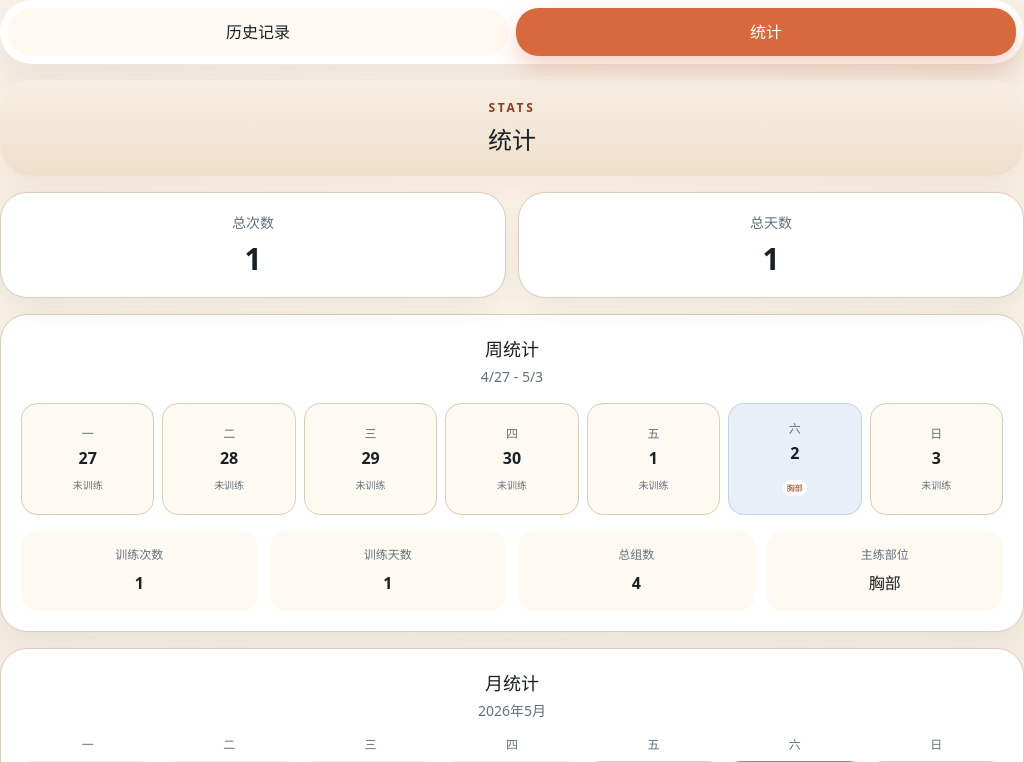
Scenario: StatsPage › shows stats by default and can switch to history records
Check: the heading "统计" is shown, box [488, 123, 536, 156]
Check: the button "统计" is shown, box [516, 8, 1016, 56]
Click the button "历史记录".
click(258, 32)  # box [8, 8, 508, 56]
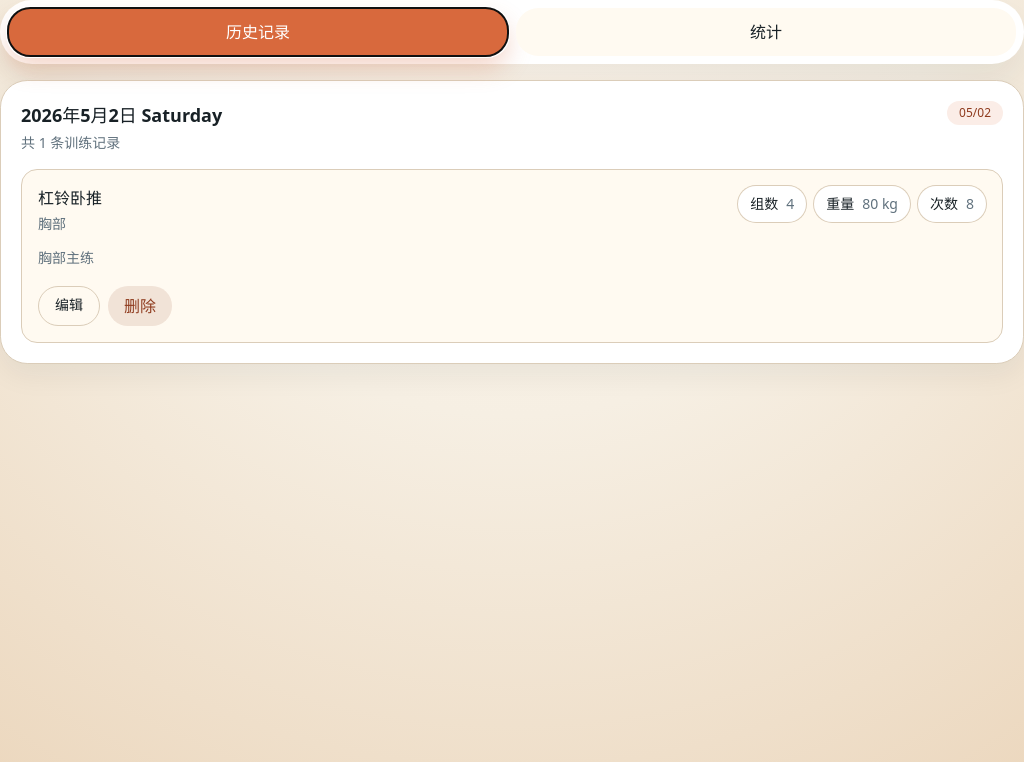
Check: the text "共 1 条训练记录" is shown, box [21, 133, 120, 152]
Check: the heading "杠铃卧推" is shown, box [38, 186, 102, 210]
Check: the text "胸部主练" is shown, box [38, 248, 94, 267]
